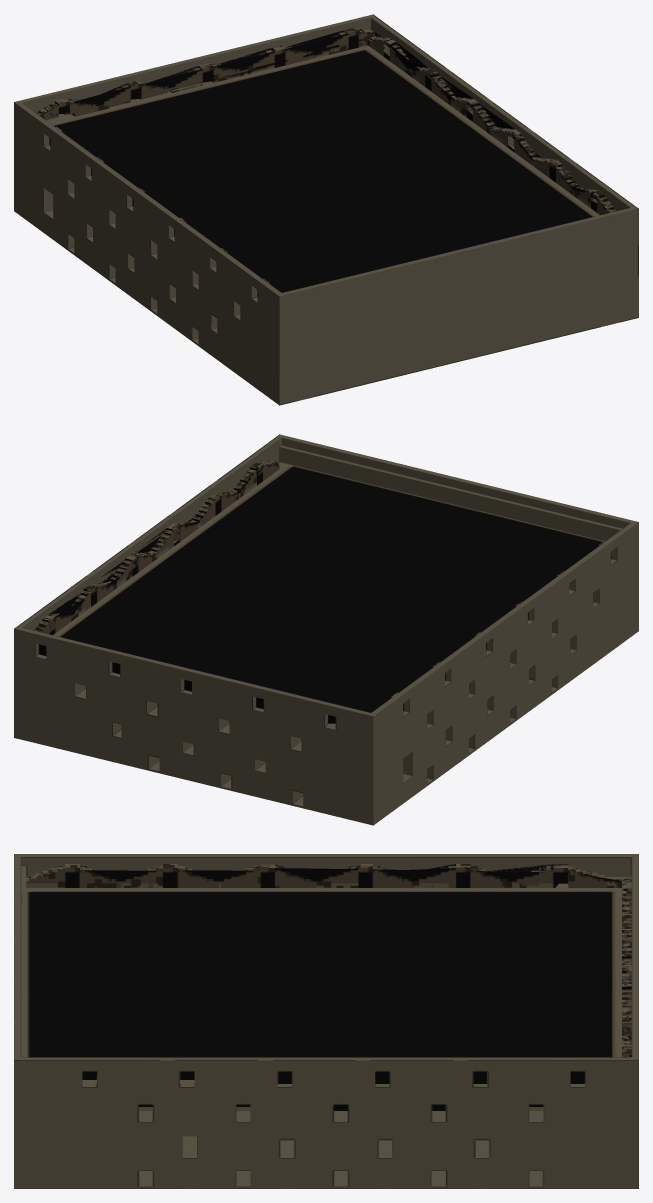
File: Arena Staris.fbx
The picture shows the model from 3 angles, top to bottom: view 1: azimuth 30°, elevation 25°; view 2: azimuth 150°, elevation 25°; view 3: azimuth 270°, elevation 25°; orthographic projection. The views are drawn at different scales.
Visible parts, largest first — view 1: Arena, Stairs; view 2: Arena, Stairs; view 3: Arena, Stairs.
Part boxes in pixels (left/top/right/bottom): Arena: left=14, top=14, right=638, bottom=405; Stairs: left=36, top=27, right=616, bottom=296; Arena: left=14, top=434, right=638, bottom=825; Stairs: left=34, top=460, right=611, bottom=723; Arena: left=14, top=854, right=638, bottom=1188; Stairs: left=26, top=864, right=631, bottom=1110.
Size of the model in its own units: 5200 by 1508 by 6656.
